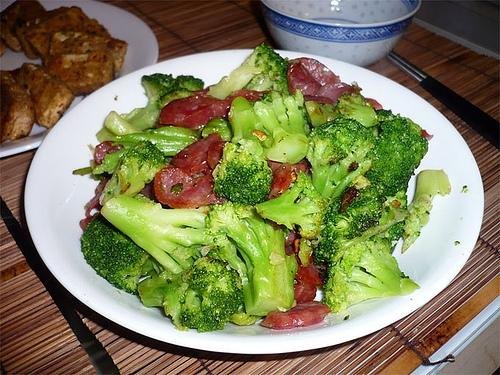broccoli: (205, 200, 298, 316), (100, 195, 220, 284), (136, 256, 244, 333), (322, 233, 420, 314), (80, 212, 166, 295), (211, 96, 274, 209), (306, 118, 378, 202), (254, 169, 331, 246), (94, 125, 201, 175), (364, 117, 428, 198), (206, 42, 291, 100), (120, 73, 205, 130), (99, 142, 170, 206), (401, 169, 452, 254), (252, 90, 310, 164), (334, 94, 380, 128), (346, 186, 388, 220), (105, 111, 145, 136), (305, 101, 341, 127), (202, 118, 232, 141), (388, 219, 406, 240)
